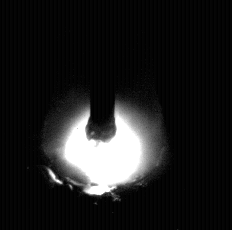arame: (90, 0, 116, 142)
poca: (40, 0, 168, 230)
